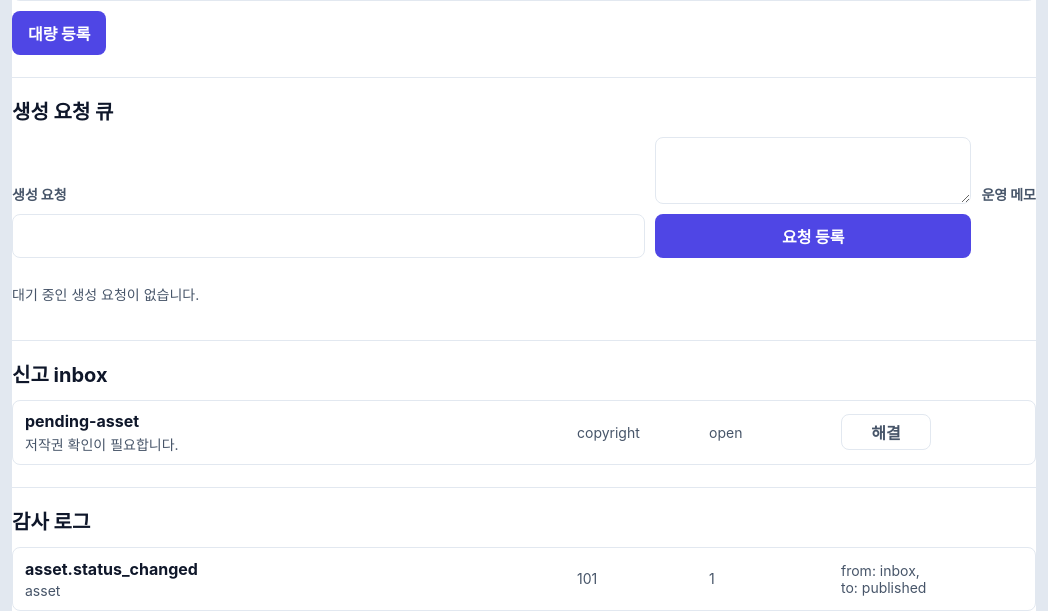
Test: AdminDashboard › resolves an open report and lists audit logs
(page scrolled)
Expected: the text "asset.status_changed" is shown, [25,559,198,579]
Click the button "해결": x=886, y=432 [841,414,931,450]
(page scrolled)
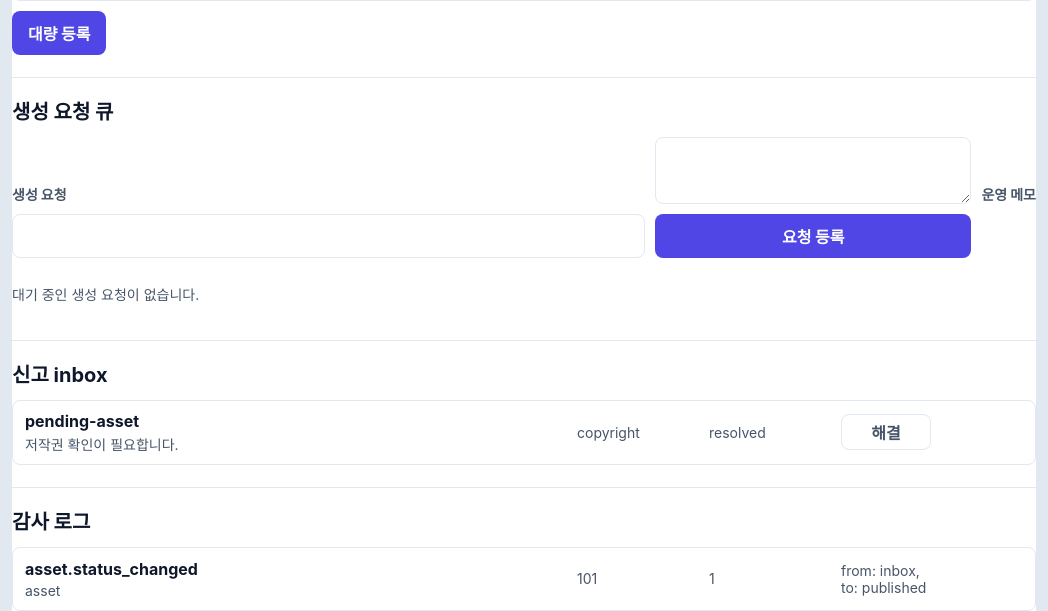
Now the text "resolved" is shown, box [709,424,766,441]
